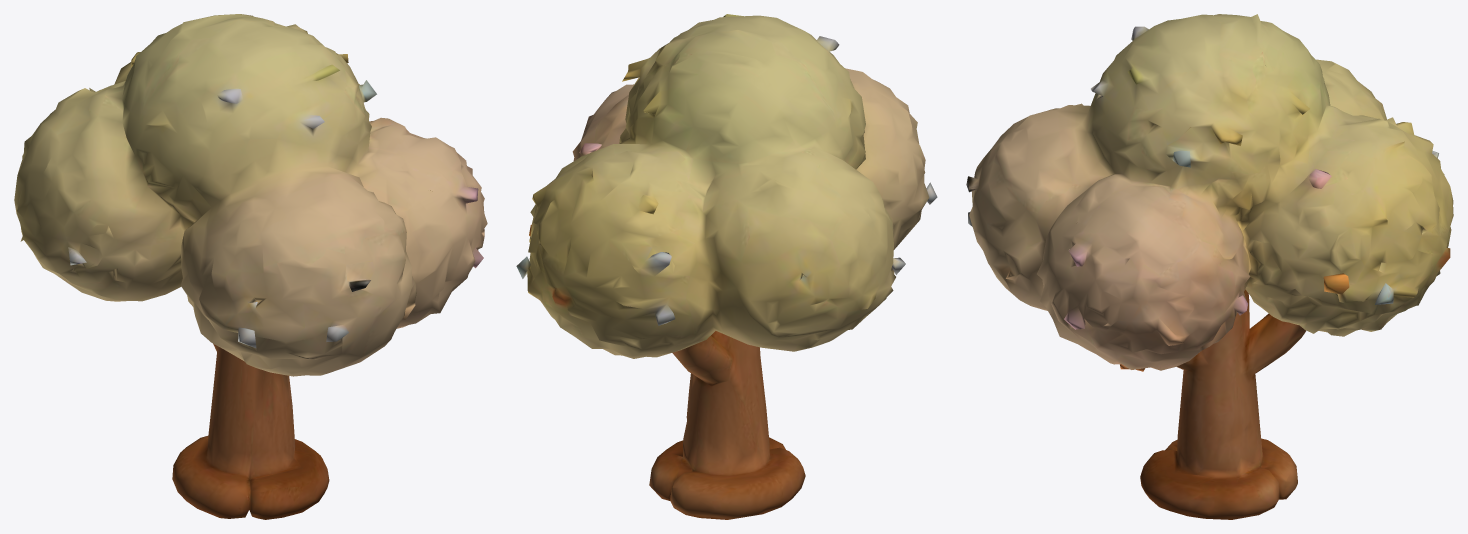
Rendered from tree.glb.
The picture shows the model from 3 angles, left to right: view 1: azimuth 30°, elevation 25°; view 2: azimuth 150°, elevation 25°; view 3: azimuth 270°, elevation 25°; orthographic projection. The views are drawn at different scales.
Visible parts, largest first — view 1: tripo_node_3487b865-ab99-42cf-8efd-5fc11c37a6f6; view 2: tripo_node_3487b865-ab99-42cf-8efd-5fc11c37a6f6; view 3: tripo_node_3487b865-ab99-42cf-8efd-5fc11c37a6f6.
Part boxes in pixels (bbox=[...]): tripo_node_3487b865-ab99-42cf-8efd-5fc11c37a6f6: bbox=[14, 14, 487, 519]; tripo_node_3487b865-ab99-42cf-8efd-5fc11c37a6f6: bbox=[516, 14, 937, 519]; tripo_node_3487b865-ab99-42cf-8efd-5fc11c37a6f6: bbox=[966, 14, 1453, 519].
Size of the model in its own units: 0.8326 by 1 by 0.955.
Materials: 1 (1 with a texture image).
